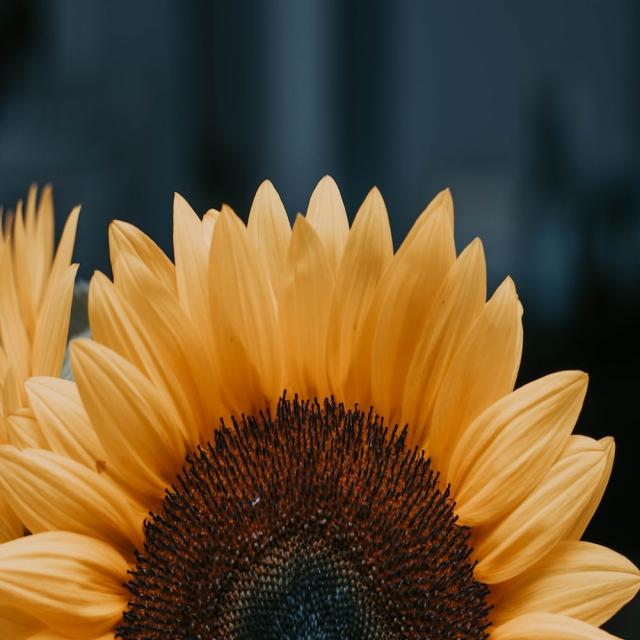sunflower: (0, 170, 640, 640), (0, 164, 110, 640)
